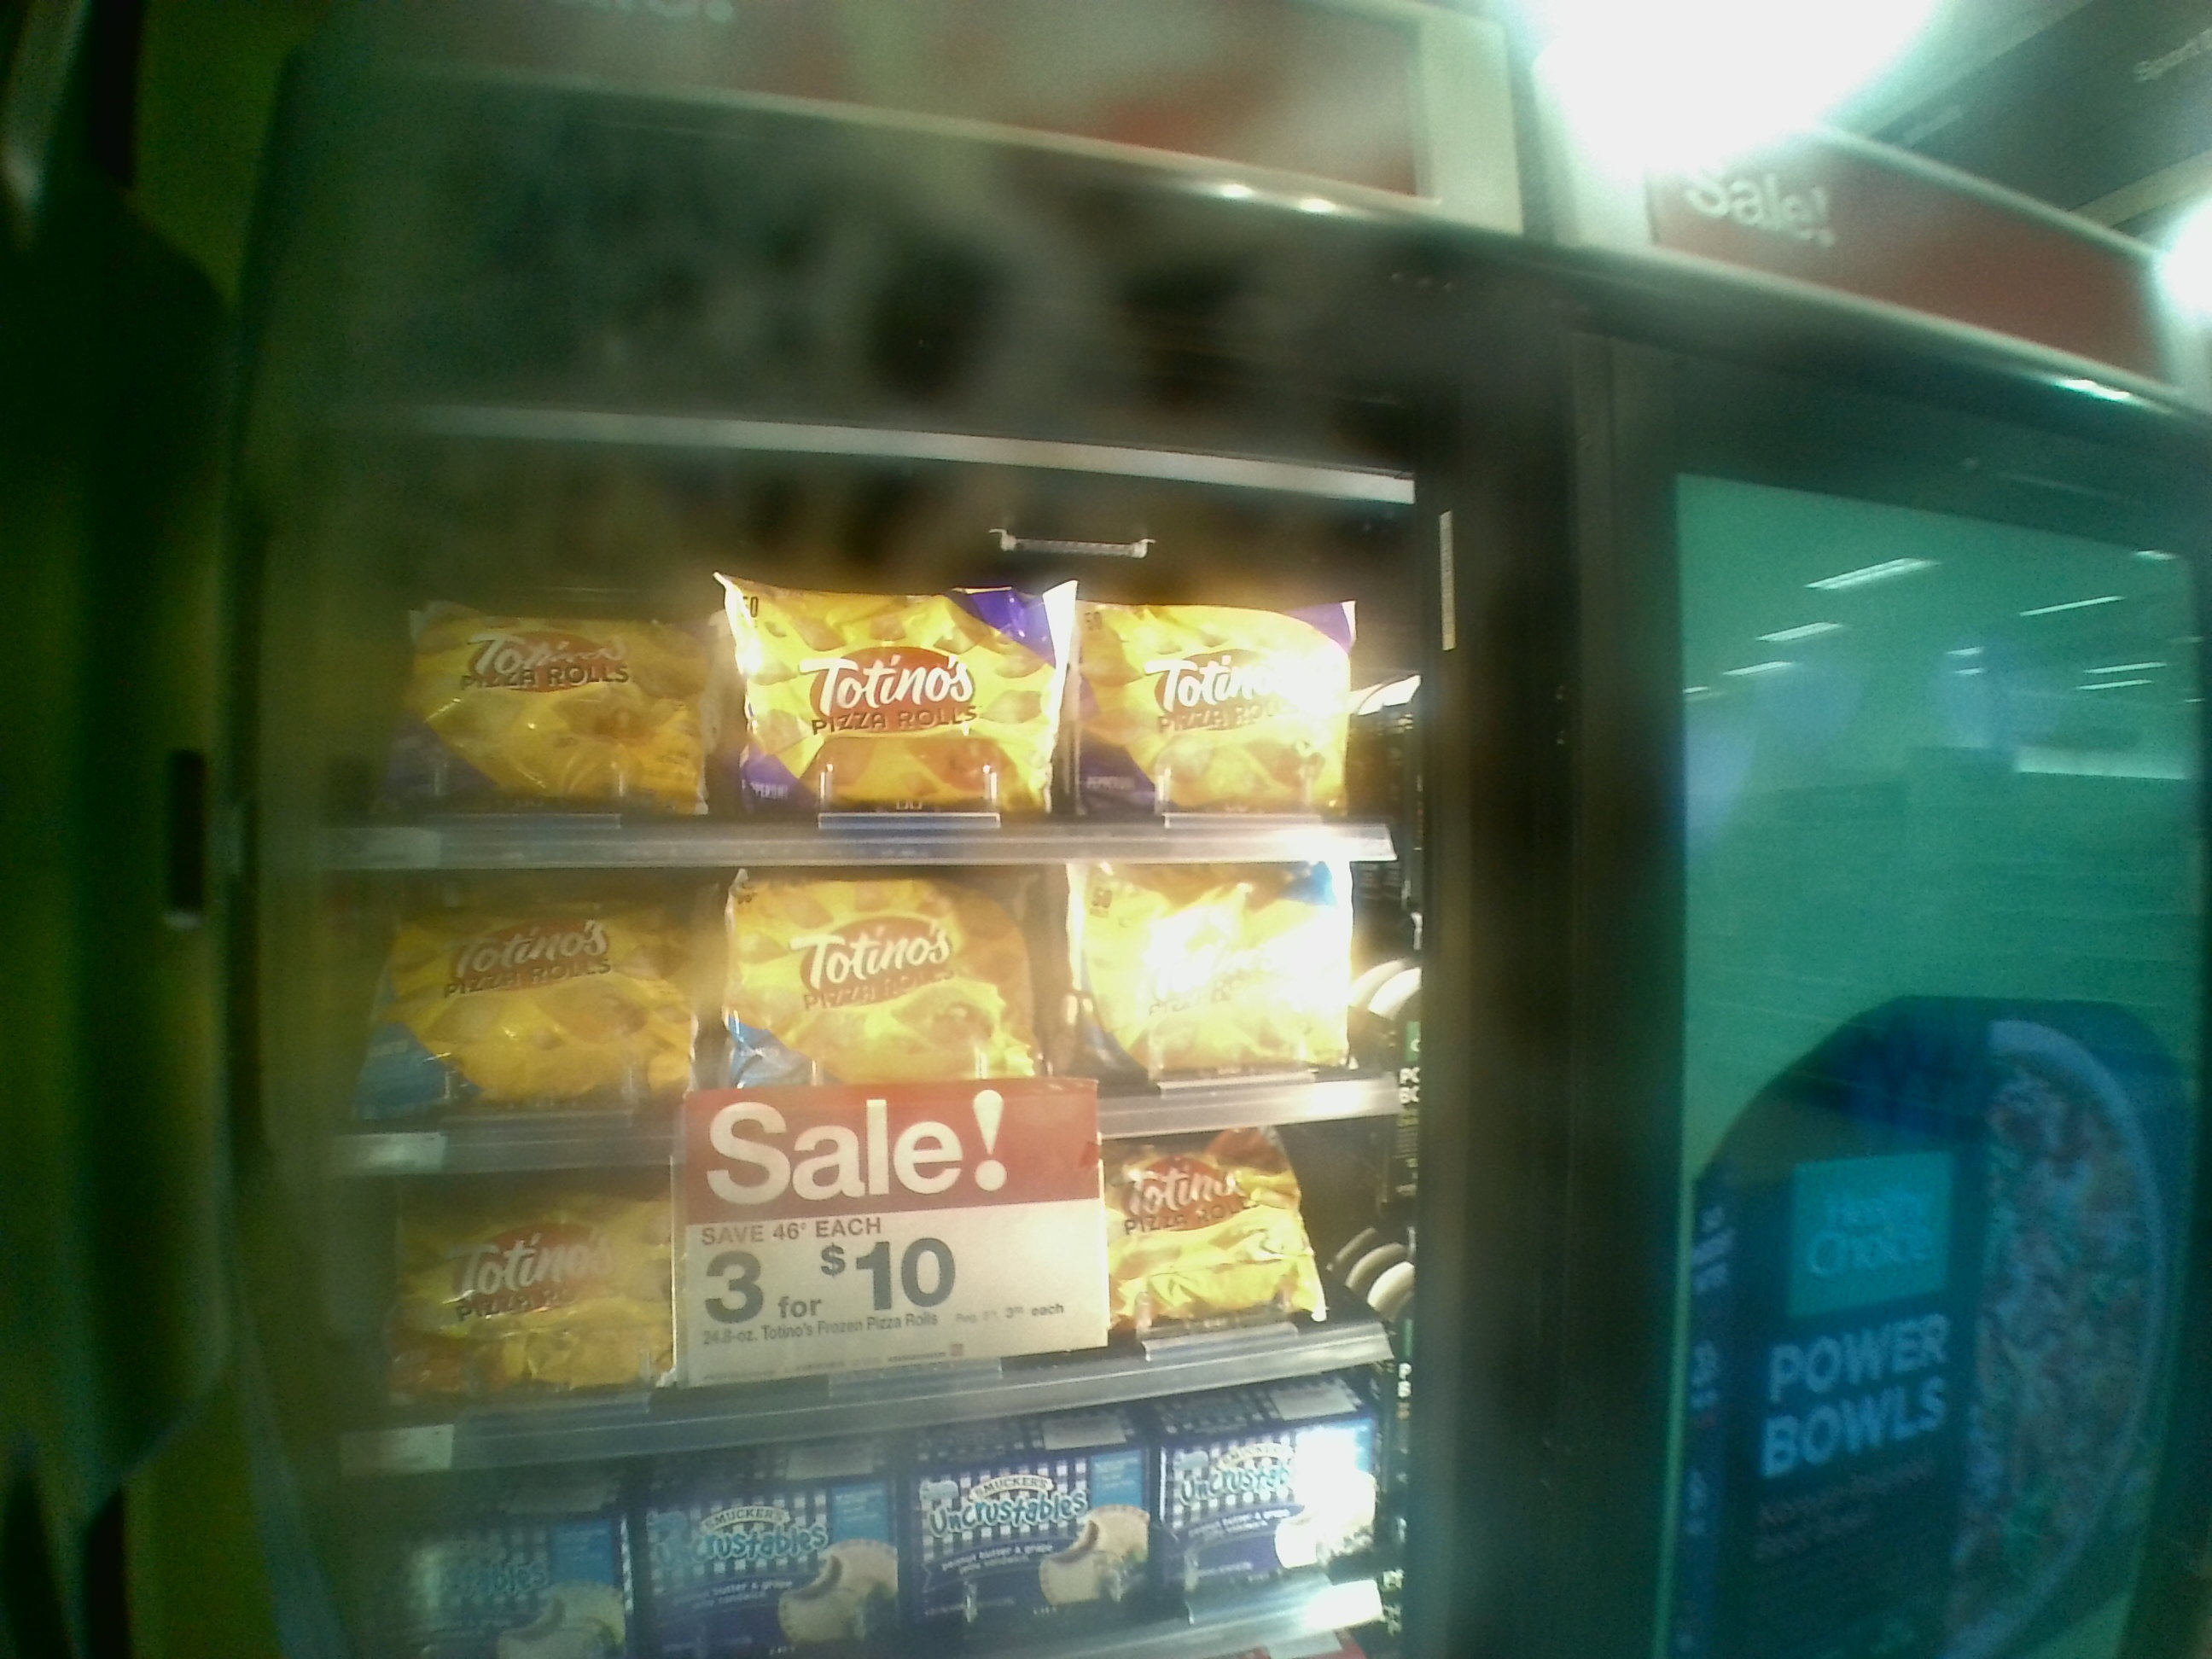shelf: (312, 476, 1421, 833), (314, 840, 1426, 1117), (338, 1143, 1388, 1370)
